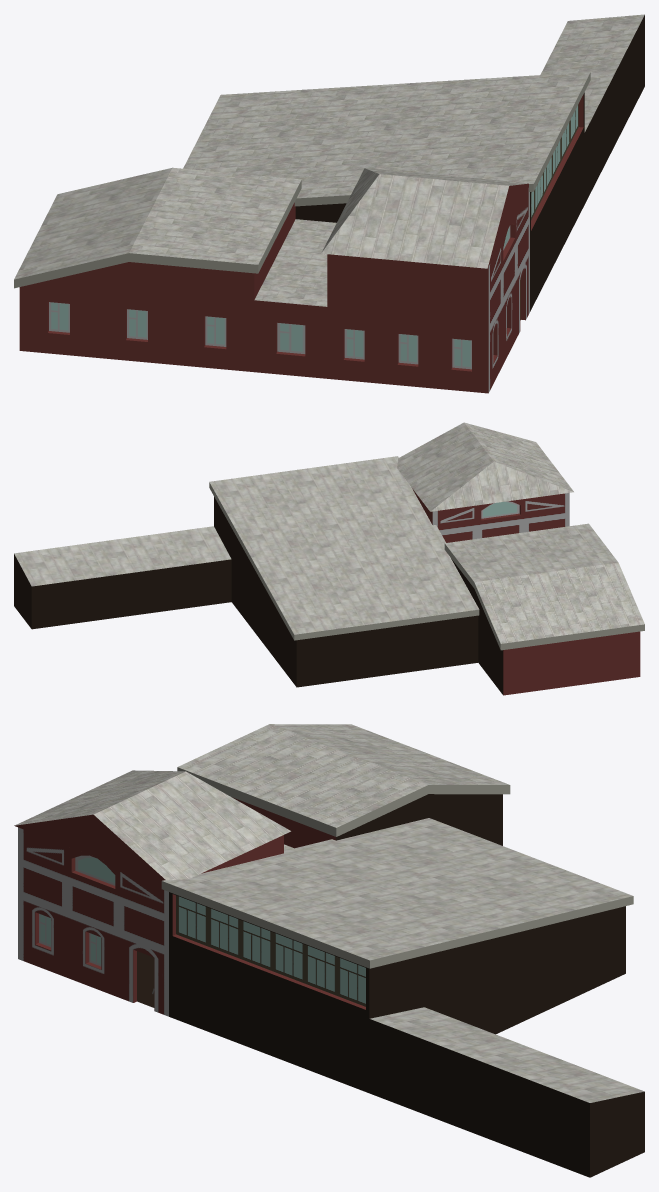
3 views of the same model, one above another, from view 1: azimuth 30°, elevation 25°; view 2: azimuth 150°, elevation 25°; view 3: azimuth 270°, elevation 25° (orthographic). The views are drawn at different scales.
Visible parts, largest first — view 1: 01020-50@75446; view 2: 01020-50@75446; view 3: 01020-50@75446.
Part boxes in pixels (bbox=[...]): 01020-50@75446: bbox=[14, 14, 644, 393]; 01020-50@75446: bbox=[14, 422, 644, 695]; 01020-50@75446: bbox=[14, 724, 644, 1177].
Size of the model in its own units: 33.51 by 7.17 by 23.65.
1 material, 1 textured.
